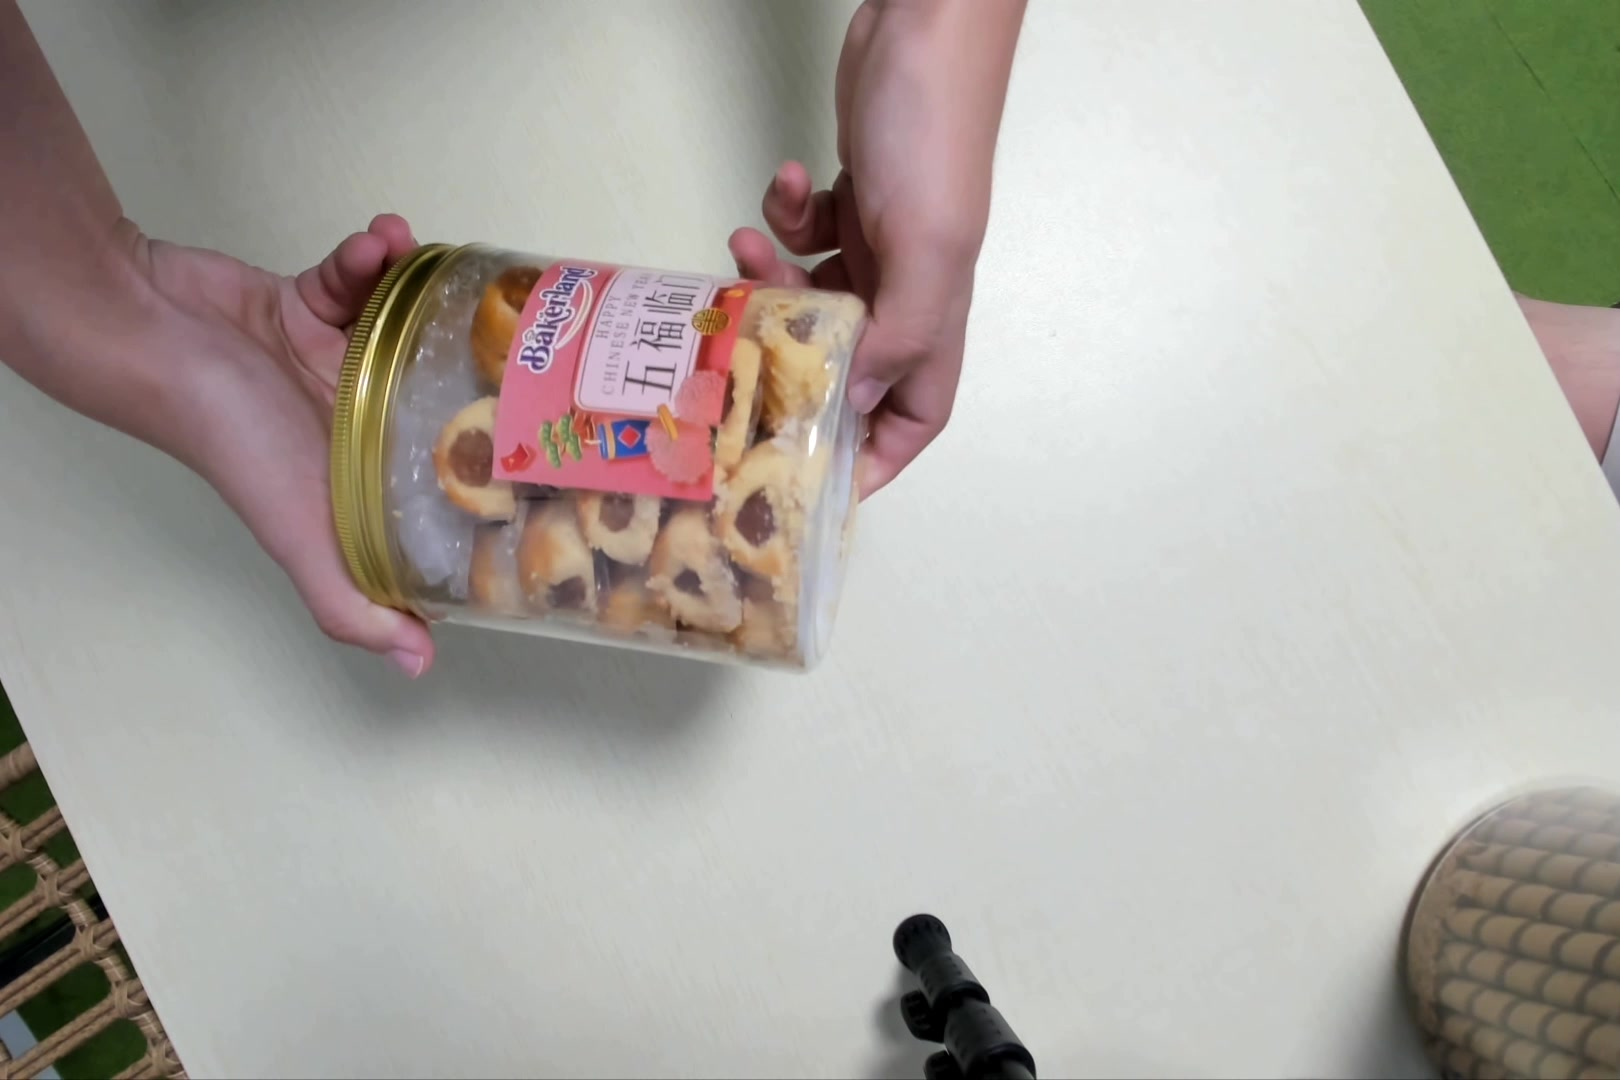BiscuitsCrackersCookies_300-399g_NonHalal_NonHealthy: (328, 224, 868, 673)
